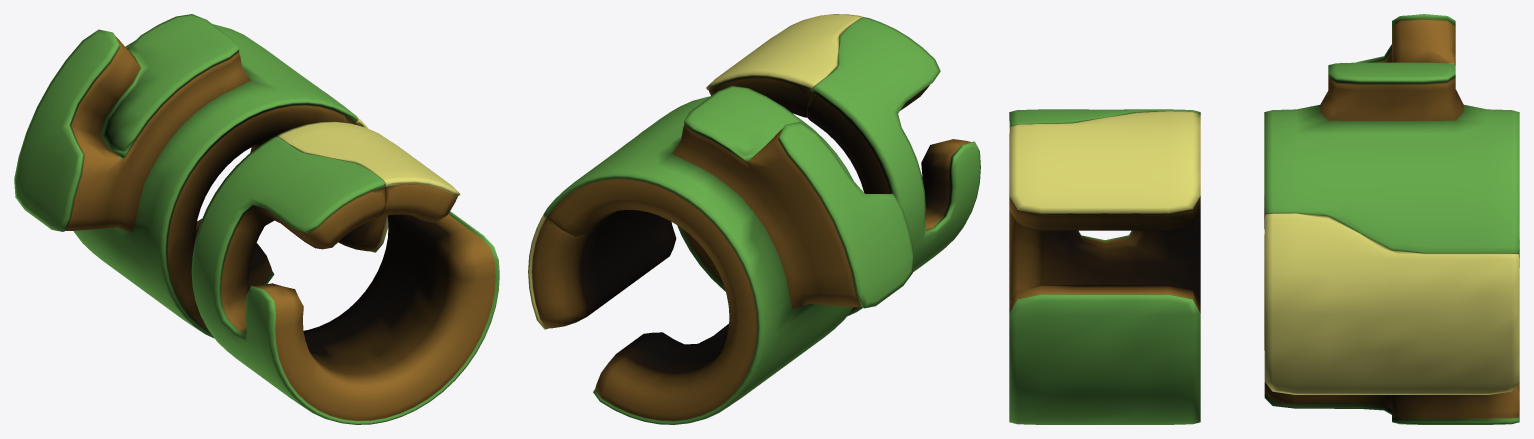
The model's file is env_planetCylinder.FBX.
3 views of the same model, side by side, from view 1: azimuth 30°, elevation 25°; view 2: azimuth 150°, elevation 25°; view 3: azimuth 270°, elevation 25° (orthographic). The views are drawn at different scales.
Parts seen in each view (by area): view 1: env_planetCylinder; view 2: env_planetCylinder; view 3: env_planetCylinder.
Boxes of the visible parts, left/top/right/bottom form: env_planetCylinder: left=14, top=14, right=499, bottom=424; env_planetCylinder: left=528, top=14, right=980, bottom=424; env_planetCylinder: left=1009, top=14, right=1519, bottom=424.
Size of the model in its own units: 11.13 by 10.09 by 13.74.
